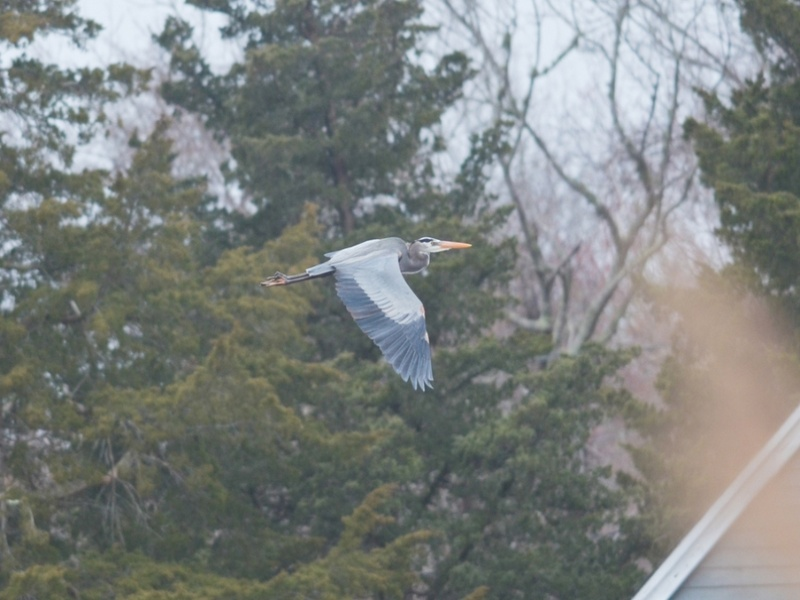heron: (257, 229, 476, 396)
